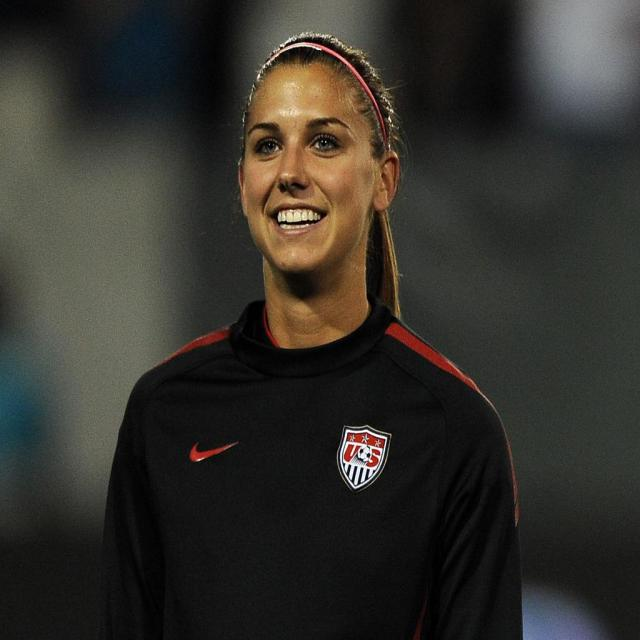Face: (239, 40, 404, 287)
